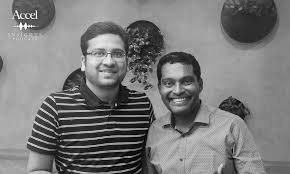Bad: (27, 22, 266, 173)
